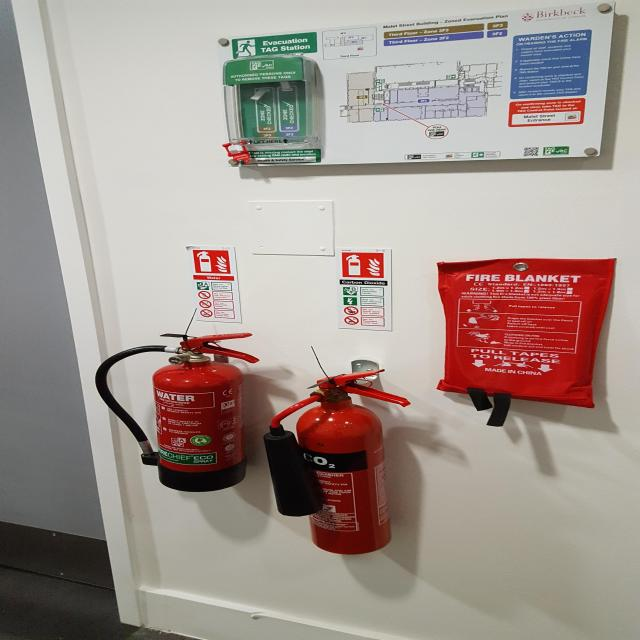fire_extinguisher: (262, 364, 418, 556), (90, 332, 267, 494)
